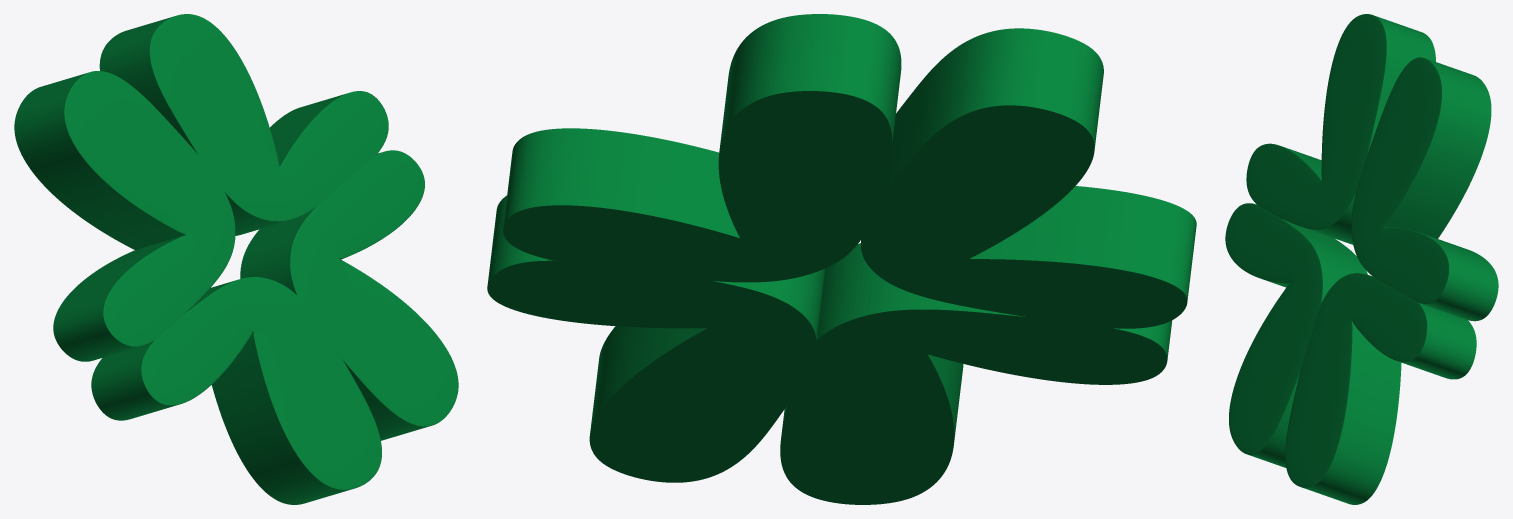
The model's file is charms5.glb.
The picture shows the model from 3 angles, left to right: view 1: azimuth 30°, elevation 25°; view 2: azimuth 150°, elevation 25°; view 3: azimuth 270°, elevation 25°; orthographic projection. The views are drawn at different scales.
Parts seen in each view (by area): view 1: Recurso 5-5; view 2: Recurso 5-5; view 3: Recurso 5-5.
Boxes of the visible parts, x1=… form: Recurso 5-5: x1=14, y1=14, x2=458, y2=504; Recurso 5-5: x1=487, y1=14, x2=1196, y2=504; Recurso 5-5: x1=1225, y1=14, x2=1498, y2=504.
Size of the model in its own units: 2.02 by 1.93 by 1.26.
